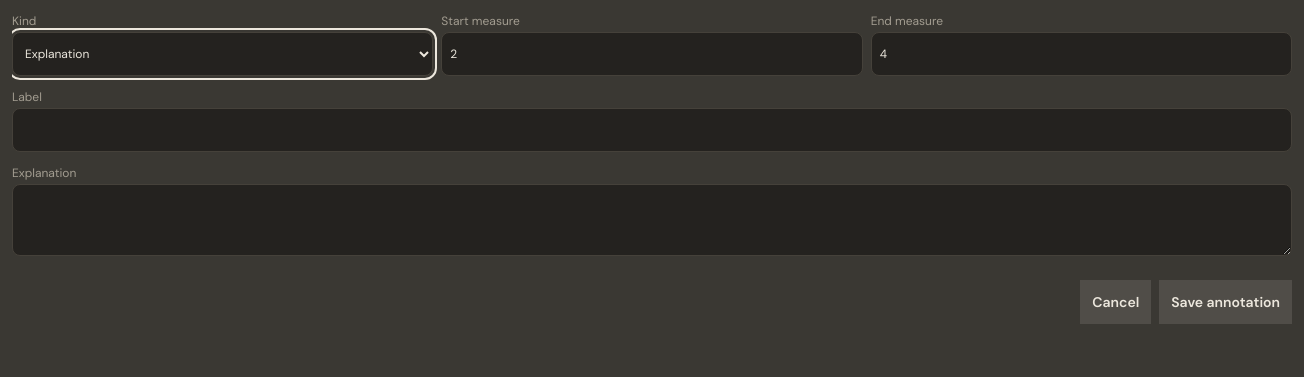
Test: AnnotationEditor › blocks invalid ranges and surfaces async save failures
This screenshot has width=1304, height=377.
Replace the text in the number field labelled "End measure" with "1" at (1081, 54), box [871, 32, 1292, 76]
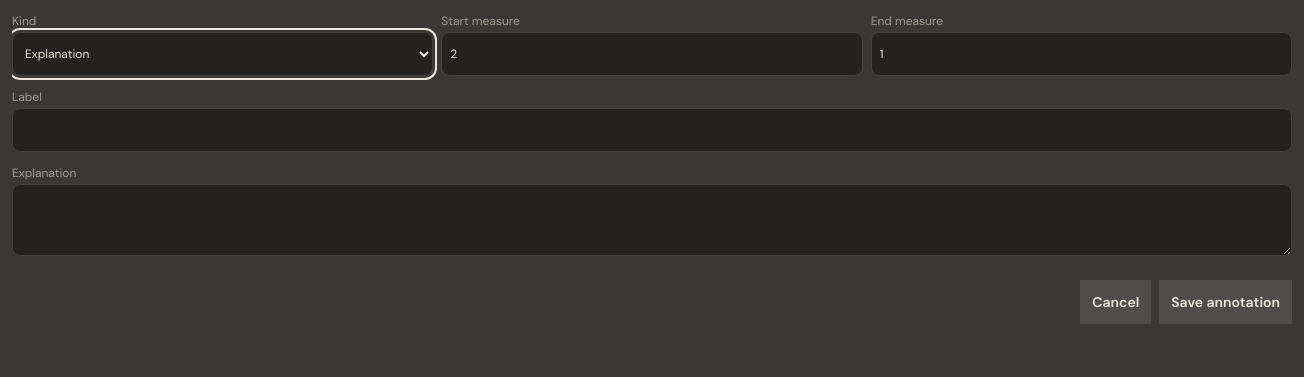
Type "Invalid" into the field labelled "Label" at (652, 130), box [12, 108, 1292, 152]
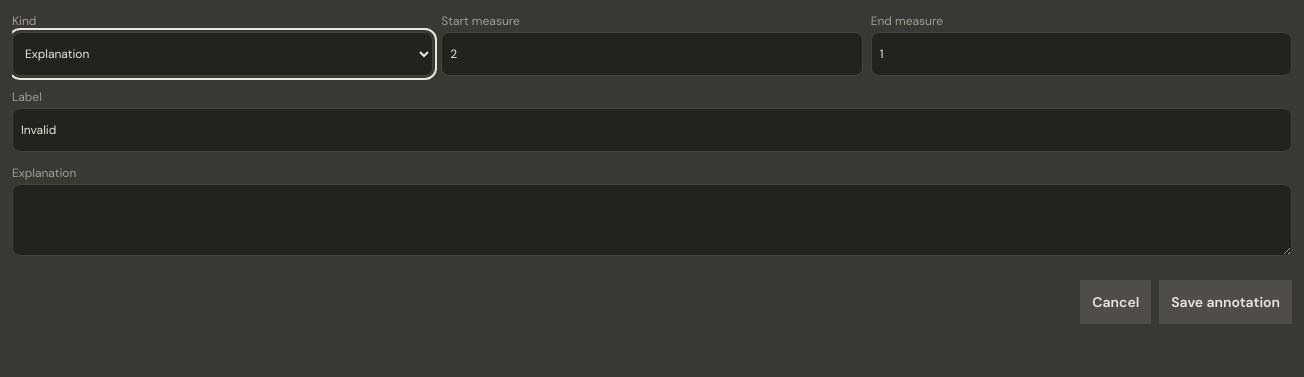
Type "Invalid range." into the text box labelled "Explanation" at (652, 220), box [12, 184, 1292, 256]
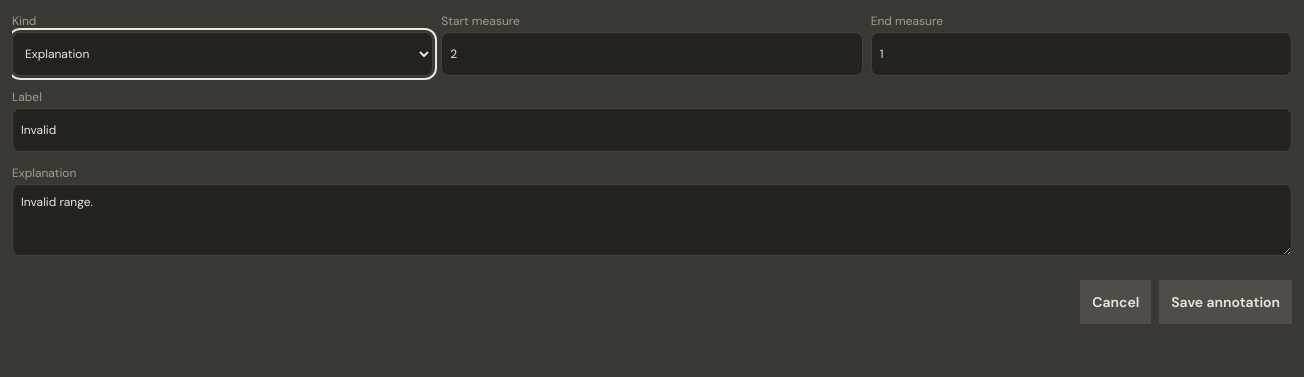
Click the button "Save annotation" at (1226, 302), box [1159, 280, 1292, 324]
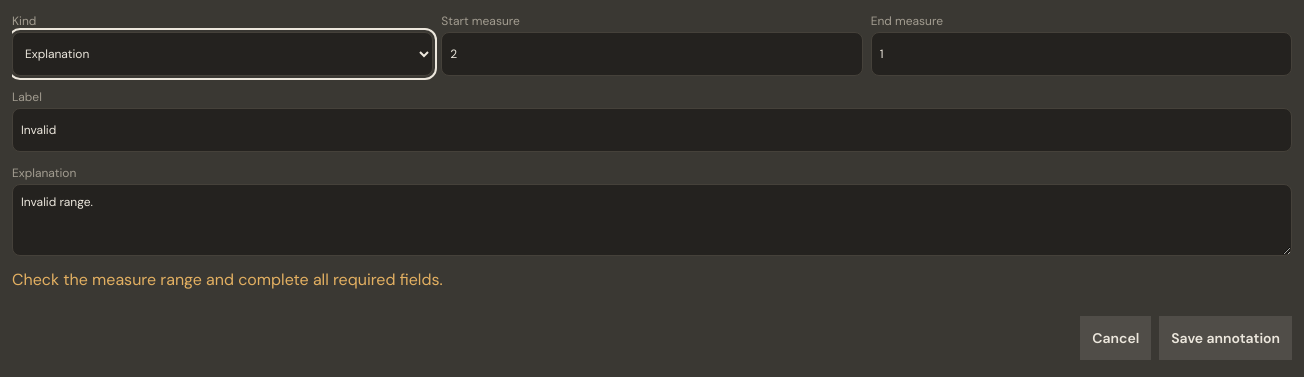
Expected: the message shows "Check the measure range", [12, 269, 443, 290]
Replace the text in the number field labelled "End measure" with "4" at (1081, 54), box [871, 32, 1292, 76]
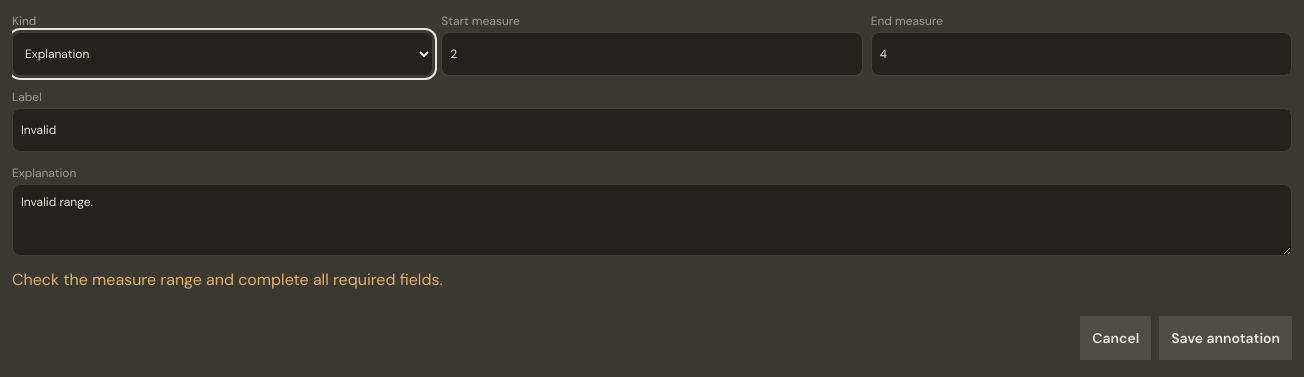
Click the button "Save annotation" at (1226, 338), box [1159, 316, 1292, 360]
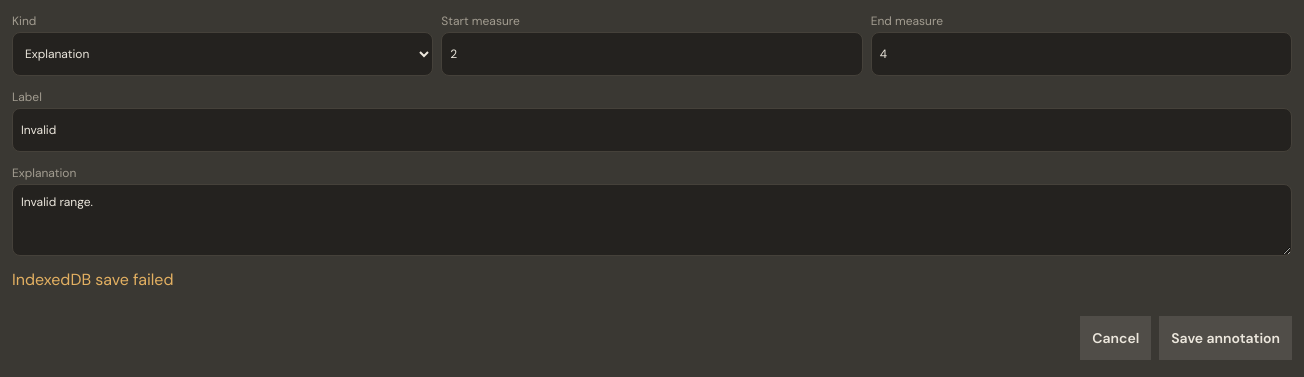
Expected: the message reads "IndexedDB save failed", [12, 269, 174, 290]
